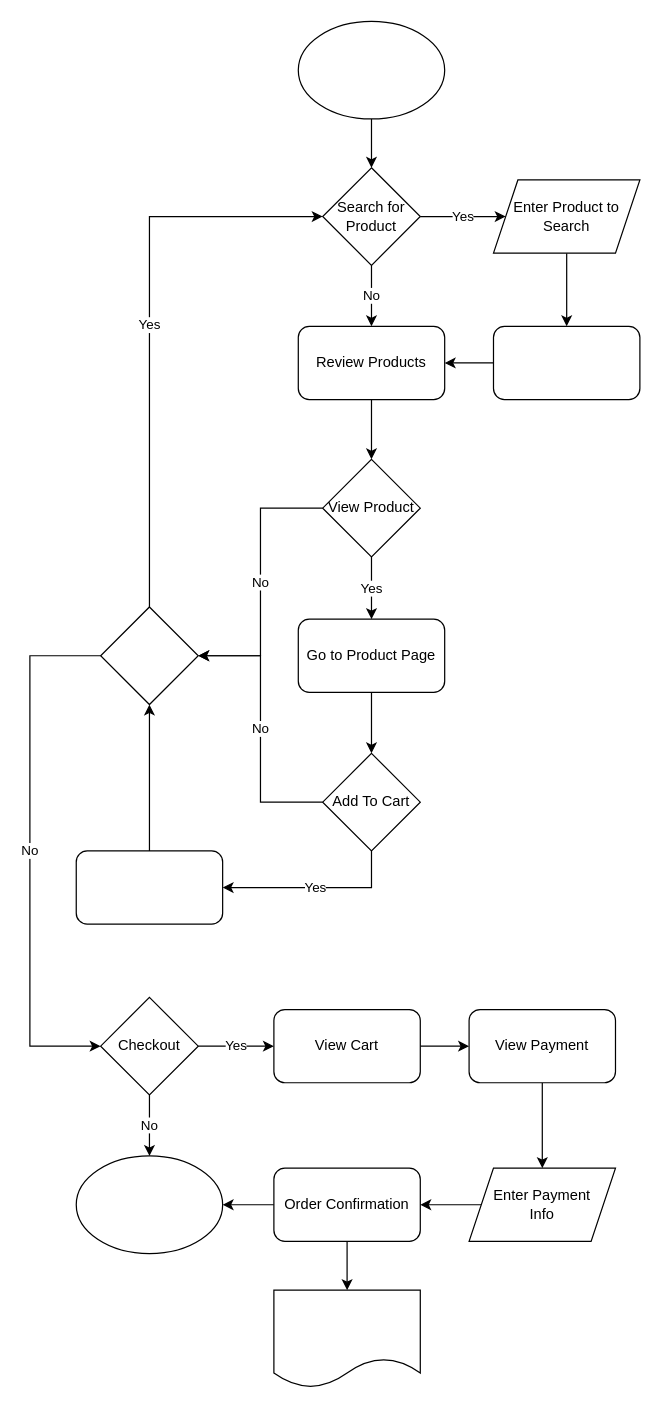
Some shapes in this 661 by 1409 pixel diagram are drawn without their labels. Here are the shapes that lost their labels. From the top down, the centre of each, then its label:
At (371,69): "Home Page".
At (566,362): "Go To Results Page".
At (148,655): "Continue Shoping".
At (149,887): "Cart Confirmation".
At (149,1204): "Exit".
At (346,1338): "Confirmation Email".
